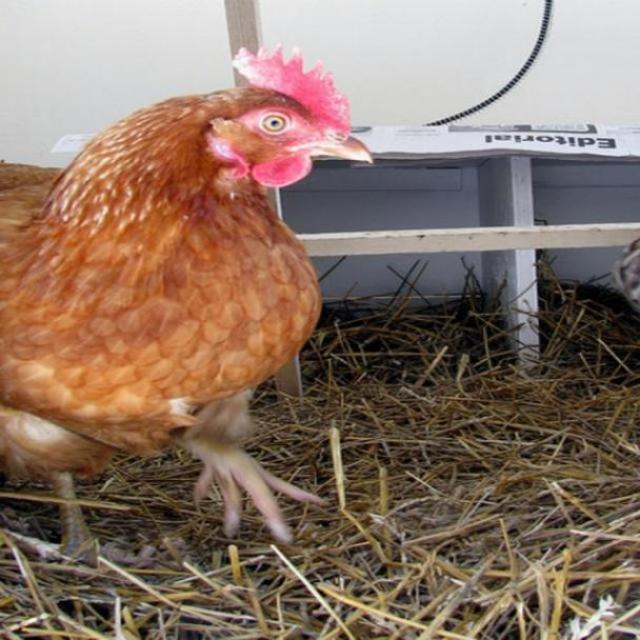Chicken: (5, 51, 361, 545)
